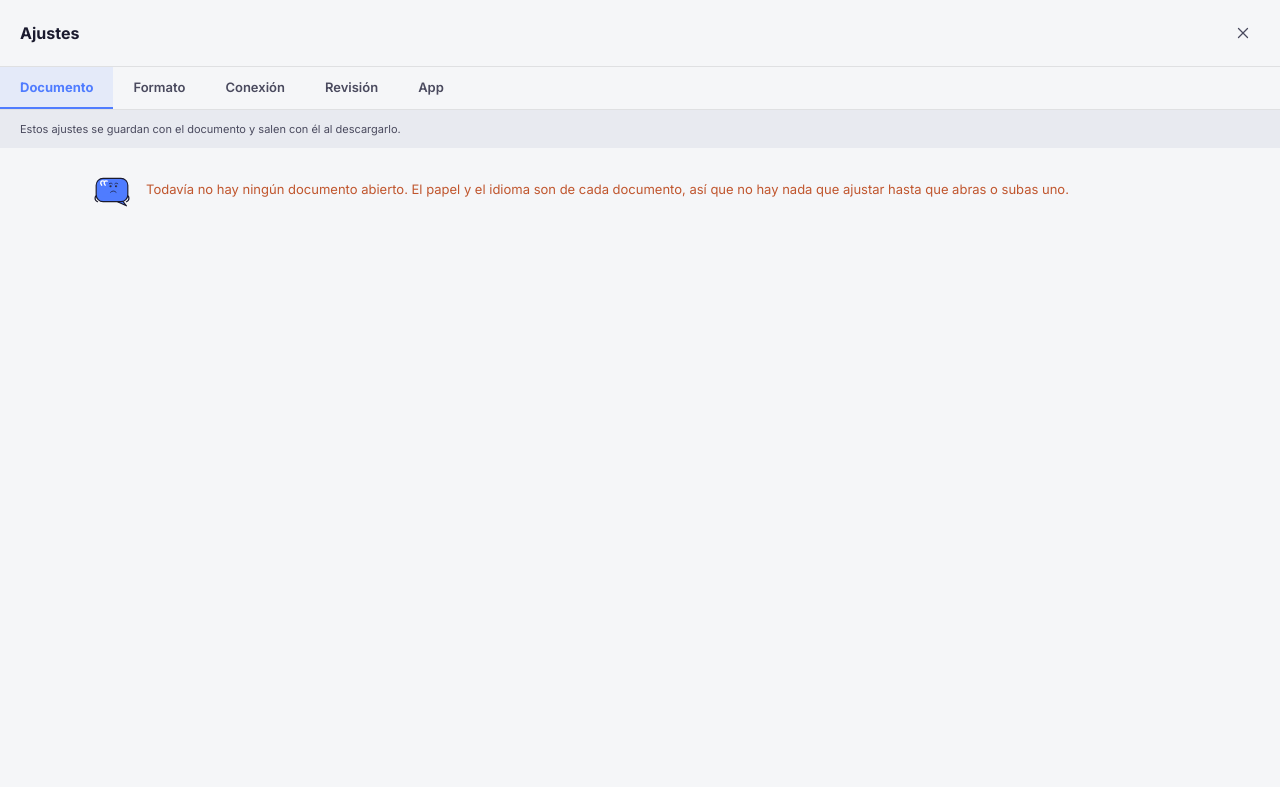
Test: Ajustes — el hub de las cinco pestañas › debajo de la barra dice el ámbito de la pestaña activa
Expected: the text with test id "settings-hub-subtitulo" reads "Estos ajustes se guardan con el documento y salen con él al descargarlo.", x1=20 y1=122 x2=401 y2=136
Click the tab "Conexión" at (255, 88), box x1=205 y1=67 x2=305 y2=109
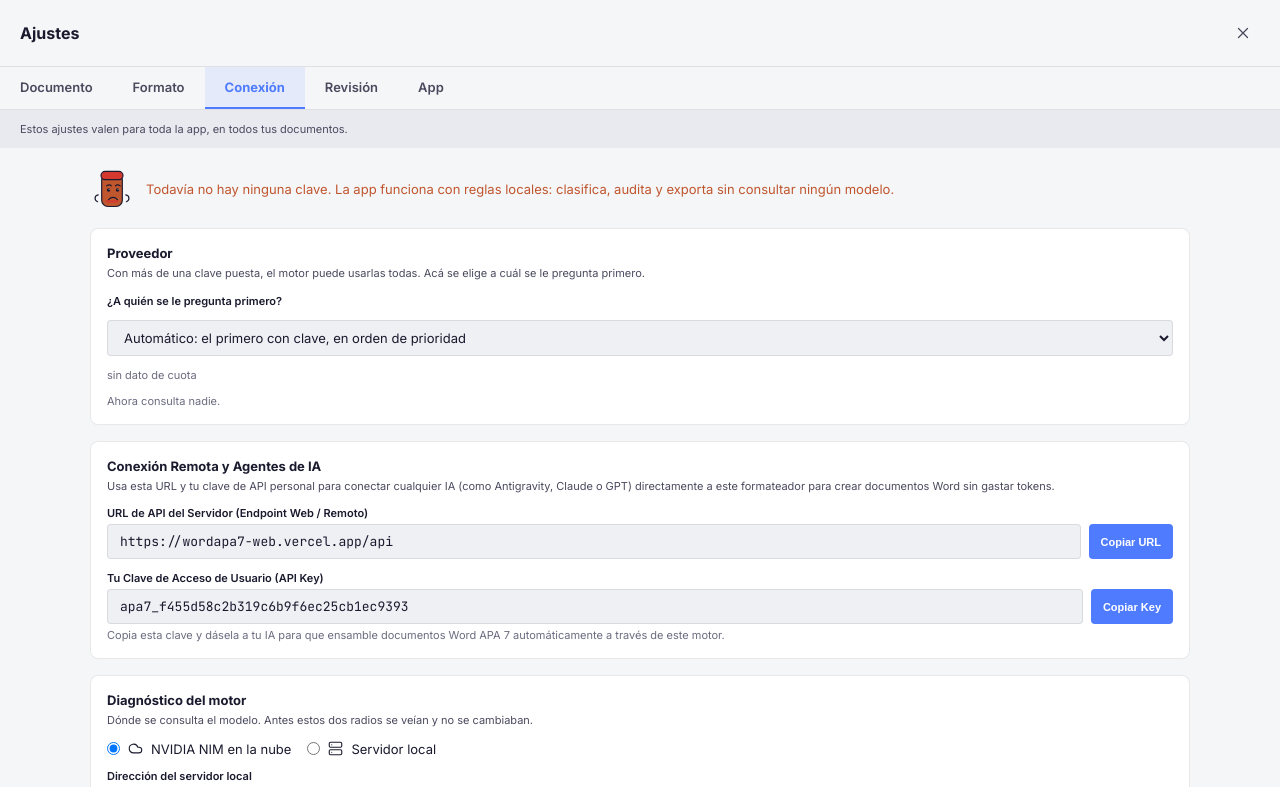
Result: the text with test id "settings-hub-subtitulo" reads "Estos ajustes valen para toda la app, en todos tus documentos." at x1=20 y1=122 x2=348 y2=136
